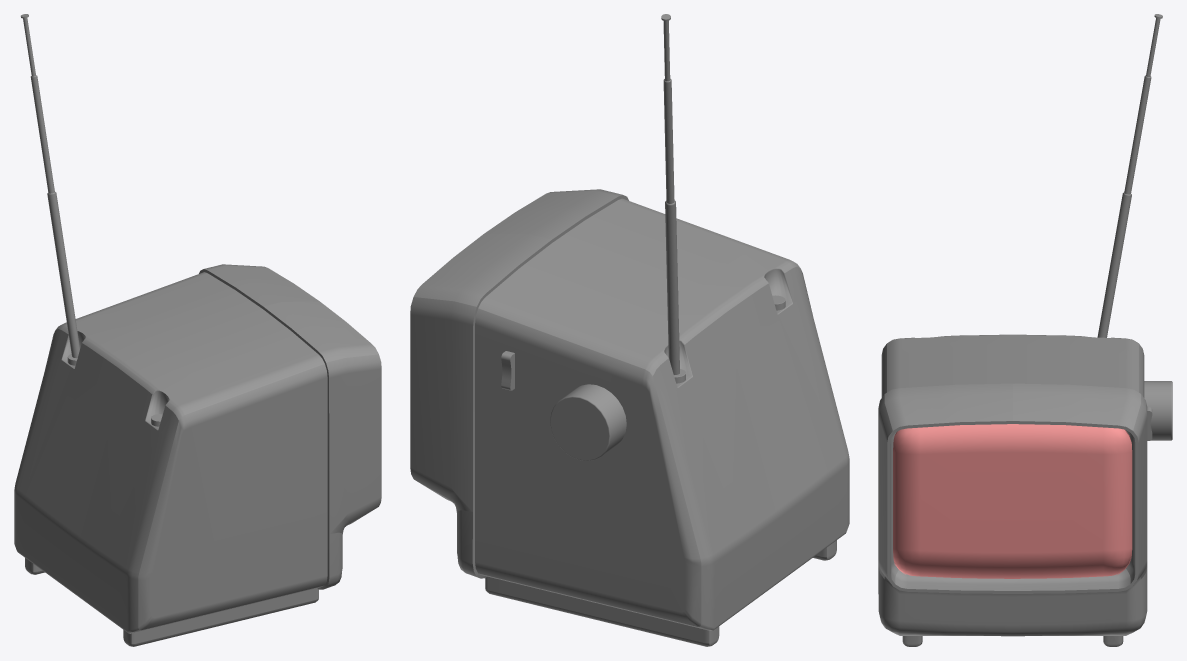
Rendered from ControlRoom_Monitor_02.gltf.
The picture shows the model from 3 angles, left to right: view 1: azimuth 30°, elevation 25°; view 2: azimuth 150°, elevation 25°; view 3: azimuth 270°, elevation 25°; orthographic projection. The views are drawn at different scales.
Visible parts, largest first — view 1: ControlRoom_Monitor_02; view 2: ControlRoom_Monitor_02; view 3: ControlRoom_Monitor_02.
Boxes of the visible parts, x1,y1,x2,y2 form: ControlRoom_Monitor_02: (14,14,381,646); ControlRoom_Monitor_02: (410,14,849,646); ControlRoom_Monitor_02: (878,14,1172,646).
Size of the model in its own units: 5.31 by 11 by 5.34.
